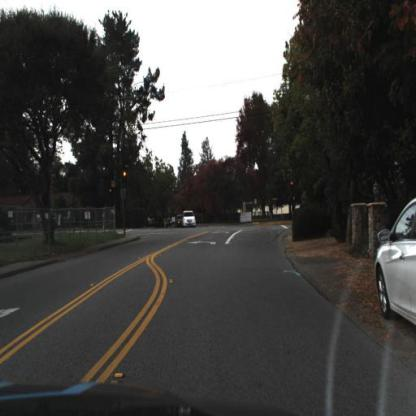car: (375, 194, 416, 335), (183, 211, 197, 234), (177, 212, 187, 230), (164, 215, 174, 229)
trafficLight-Red: (106, 185, 114, 201), (122, 168, 129, 184), (122, 170, 127, 188), (289, 179, 294, 193)
